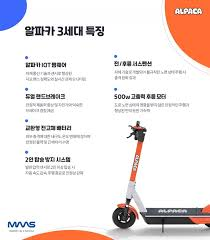kick_body: (147, 208, 200, 223)
kick_handler: (127, 121, 147, 138)
kick_neck: (127, 142, 143, 203)
kick_wheel: (113, 204, 135, 228)
